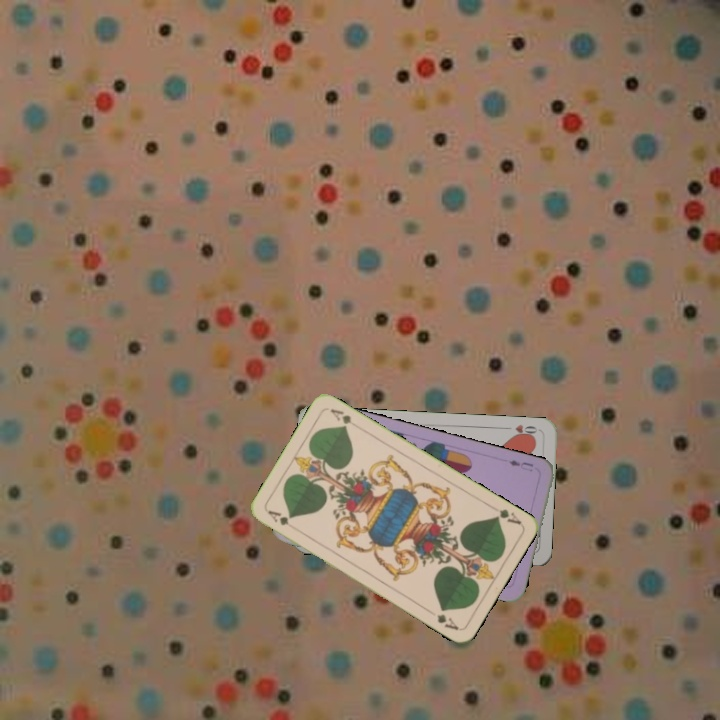EU: (504, 456, 536, 474)
GA: (263, 506, 300, 533), (489, 505, 524, 528)
HO: (501, 421, 540, 440)
